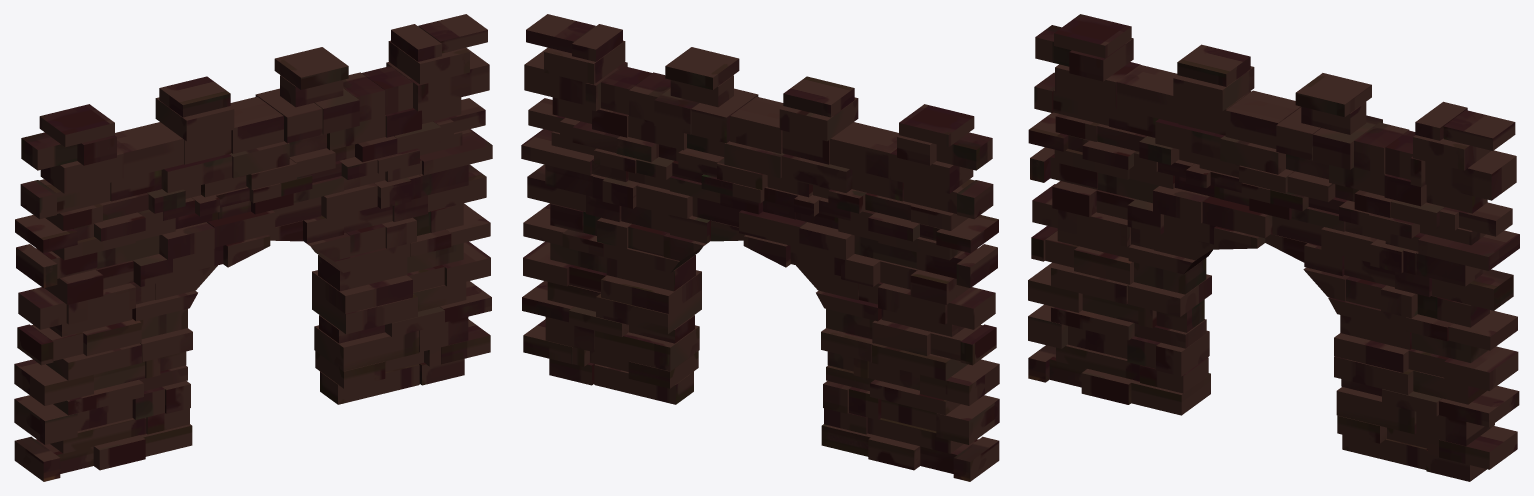
File: doorWall.dae
3 views of the same model, side by side, from view 1: azimuth 30°, elevation 25°; view 2: azimuth 150°, elevation 25°; view 3: azimuth 330°, elevation 25° (orthographic). The views are drawn at different scales.
Parts seen in each view (by area): view 1: doorWall; view 2: doorWall; view 3: doorWall.
Part boxes in pixels (left/top/right/bottom): doorWall: left=14, top=14, right=492, bottom=481; doorWall: left=521, top=14, right=999, bottom=481; doorWall: left=1028, top=14, right=1519, bottom=481.
Size of what is drawn, in the model's own units: 21.11 by 2.78 by 15.3.
1 material, 1 textured.
